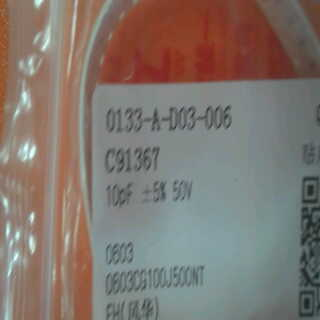10pF: (100, 178, 139, 213)
